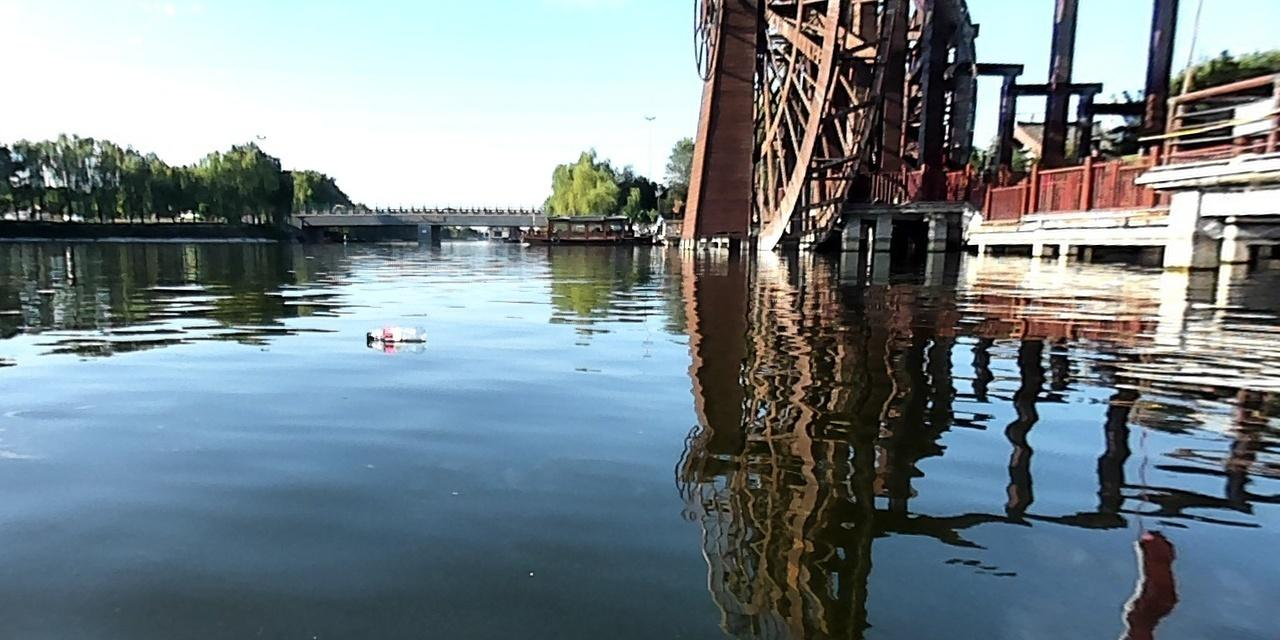bottle: (362, 320, 427, 346)
